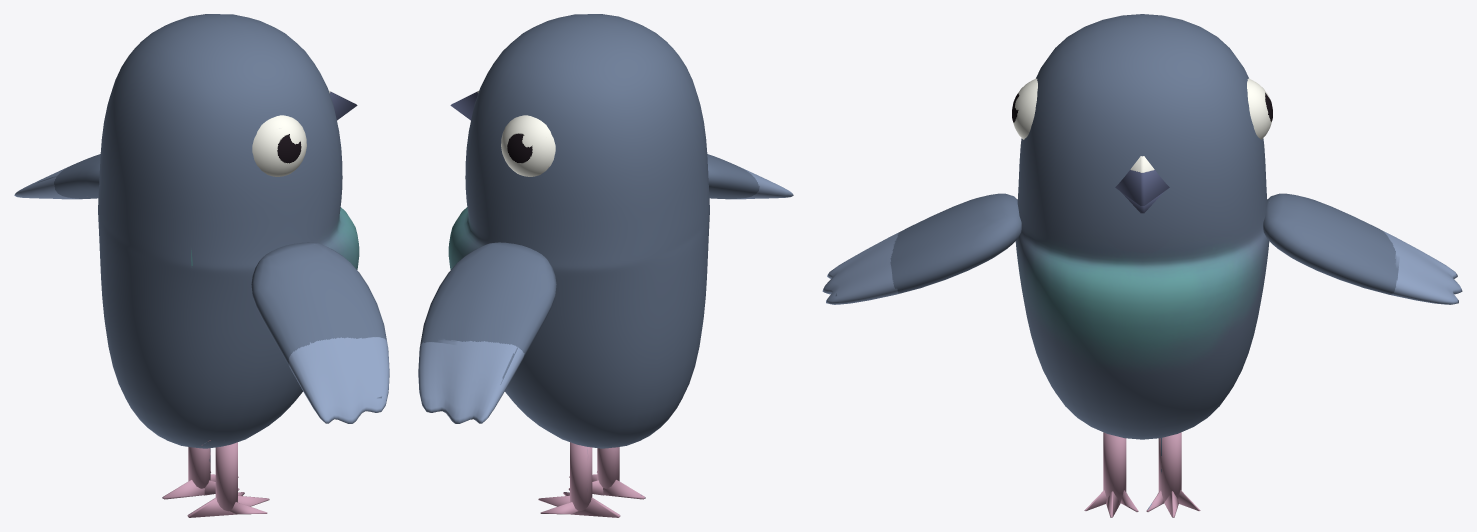
Rendered from pigeontextures.fbx.
3 renders of one model, left to right at view 1: azimuth 30°, elevation 25°; view 2: azimuth 150°, elevation 25°; view 3: azimuth 270°, elevation 25°, orthographic.
Parts seen in each view (by area): view 1: Wings; view 2: Wings; view 3: Wings.
Part boxes in pixels (box(x1,y1,x2,y2)): Wings: box(14, 14, 389, 517); Wings: box(418, 14, 793, 517); Wings: box(822, 14, 1462, 517).
Size of the model in its own units: 86 by 162 by 198.
1 material, 1 textured.
